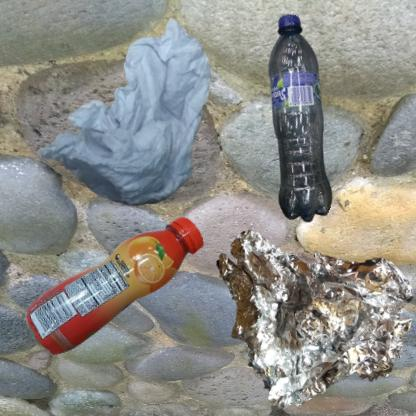aluminio: (213, 213, 416, 416)
botella: (213, 10, 416, 272), (10, 213, 256, 381)
papel: (10, 10, 269, 253)
